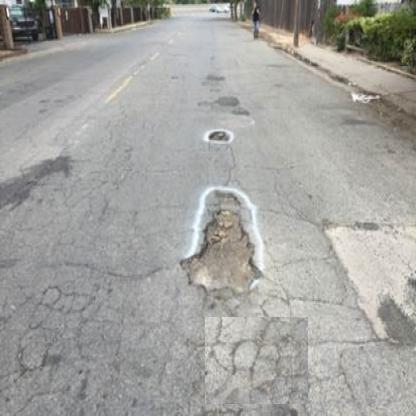crack: (14, 280, 107, 411), (204, 317, 308, 405)
pothole: (173, 184, 263, 300)
